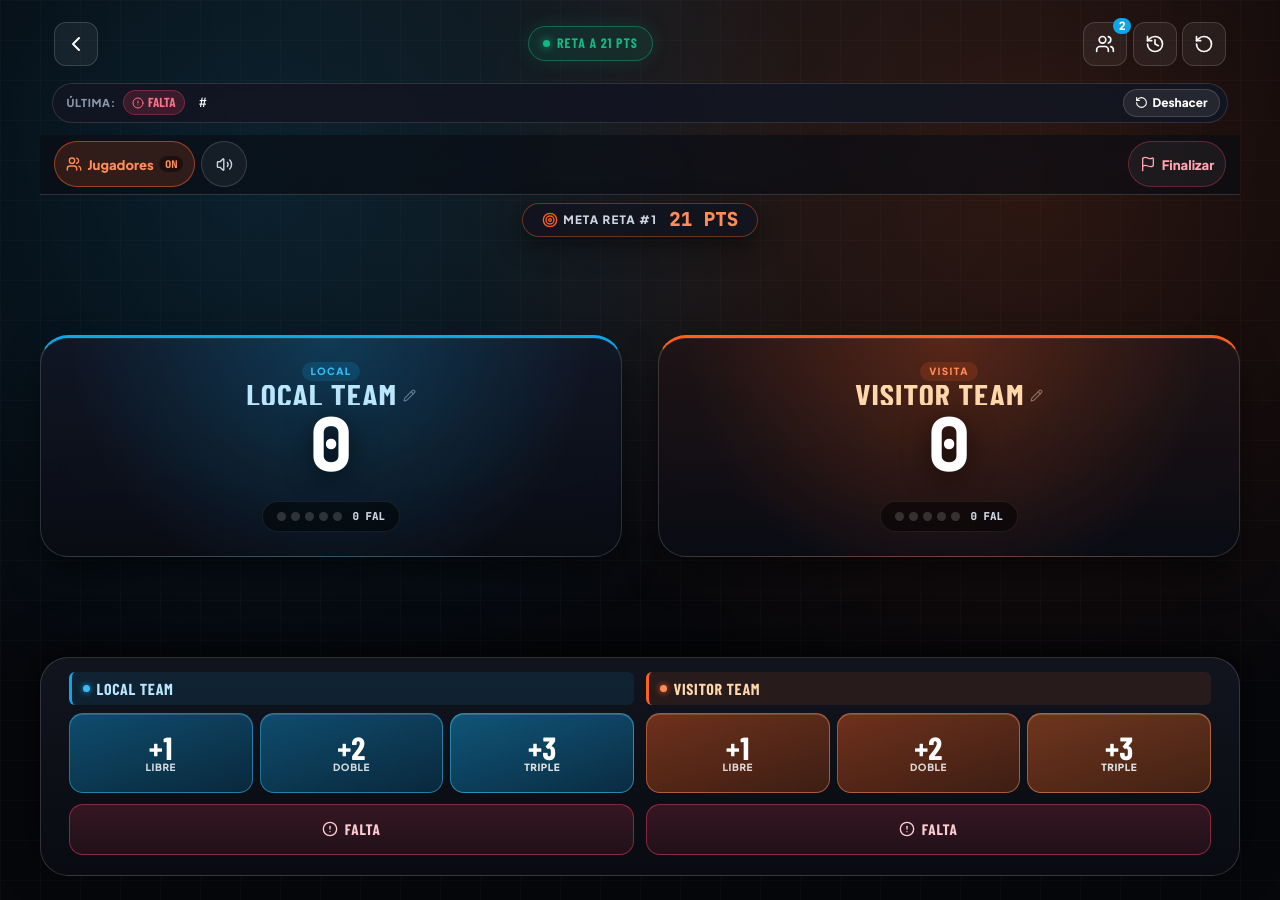
SB_PHASE2B_R1: Estabilidad React 19, Rules of Hooks, Efectos y Continuidad › Grupo B — Ciclo de vida y recursos › F2B-08: Una operación pendiente no aplica efectos de interfaz a un partido nuevo
The width and height of the screenshot is (1280, 900).
// Abrir modal de confirmación en partido 1
Click the button titled "Finalizar y cerrar partido" at (1177, 164), box [1128,141,1226,187]
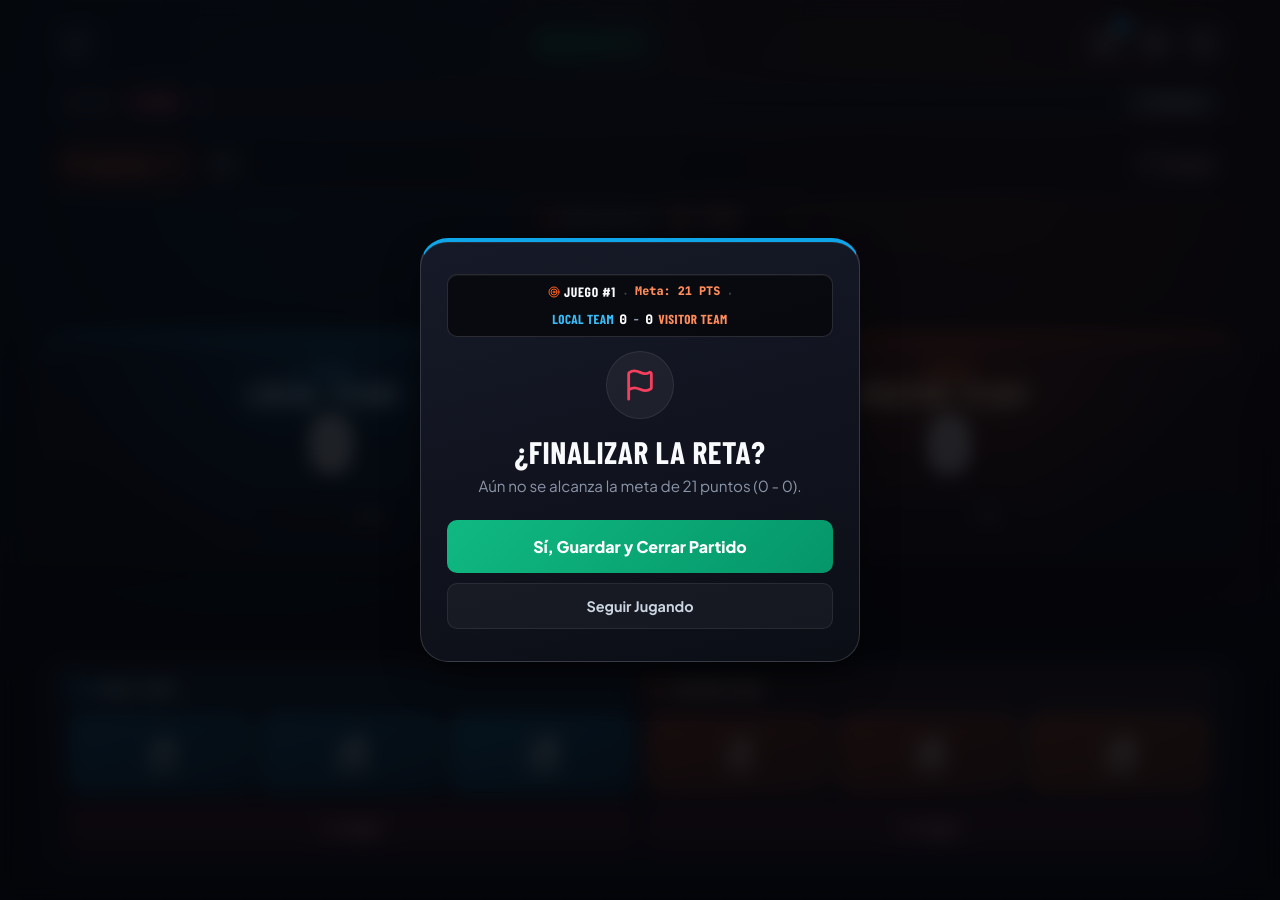
Expected: the heading "¿Finalizar la Reta?" is shown, [514,435,766,469]
